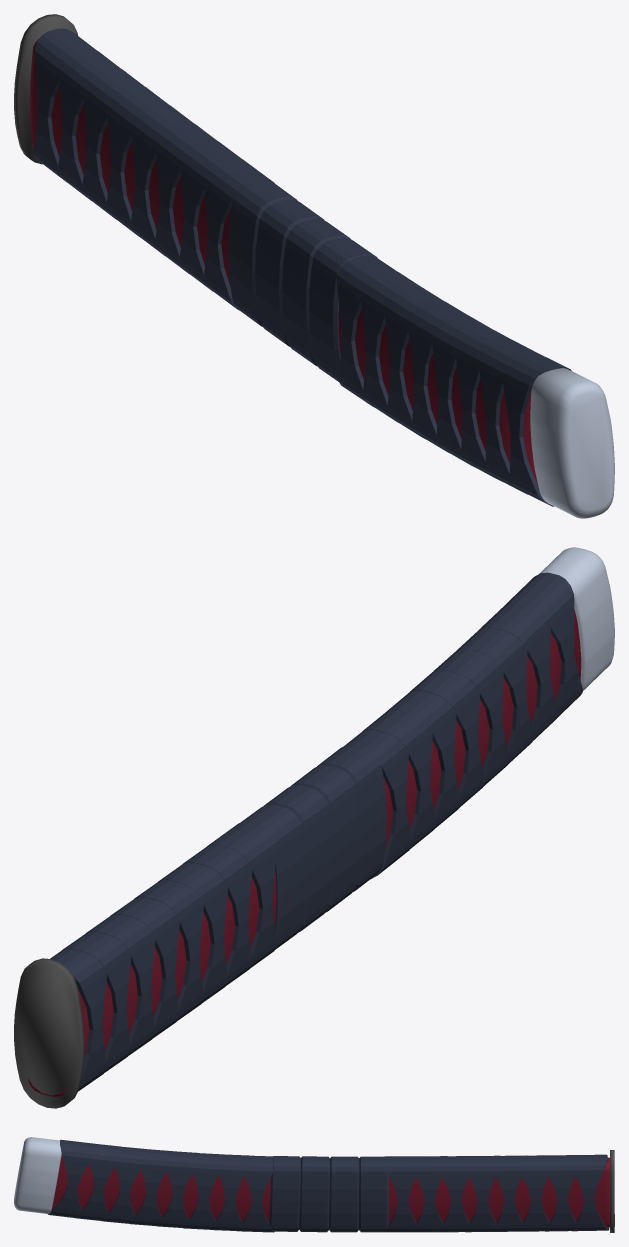
Rendered from hilt_default.glb.
The picture shows the model from 3 angles, top to bottom: view 1: azimuth 30°, elevation 25°; view 2: azimuth 150°, elevation 25°; view 3: azimuth 270°, elevation 25°; orthographic projection. The views are drawn at different scales.
Parts seen in each view (by area): view 1: HiltDecoration, Hilt, HiltDecoration2; view 2: HiltDecoration, Hilt, HiltDecoration2; view 3: HiltDecoration, Hilt, HiltDecoration2.
Boxes of the visible parts, x1,y1,x2,y2 form: HiltDecoration: (33, 28, 571, 506); Hilt: (14, 14, 614, 518); HiltDecoration2: (228, 181, 377, 381); HiltDecoration: (50, 572, 582, 1091); Hilt: (14, 547, 614, 1108); HiltDecoration2: (241, 745, 386, 949); HiltDecoration: (48, 1139, 609, 1232); Hilt: (14, 1137, 614, 1232); HiltDecoration2: (269, 1156, 388, 1232).
Bounding box in the file's own units: 0.0353 × 0.0854 × 0.5052.
